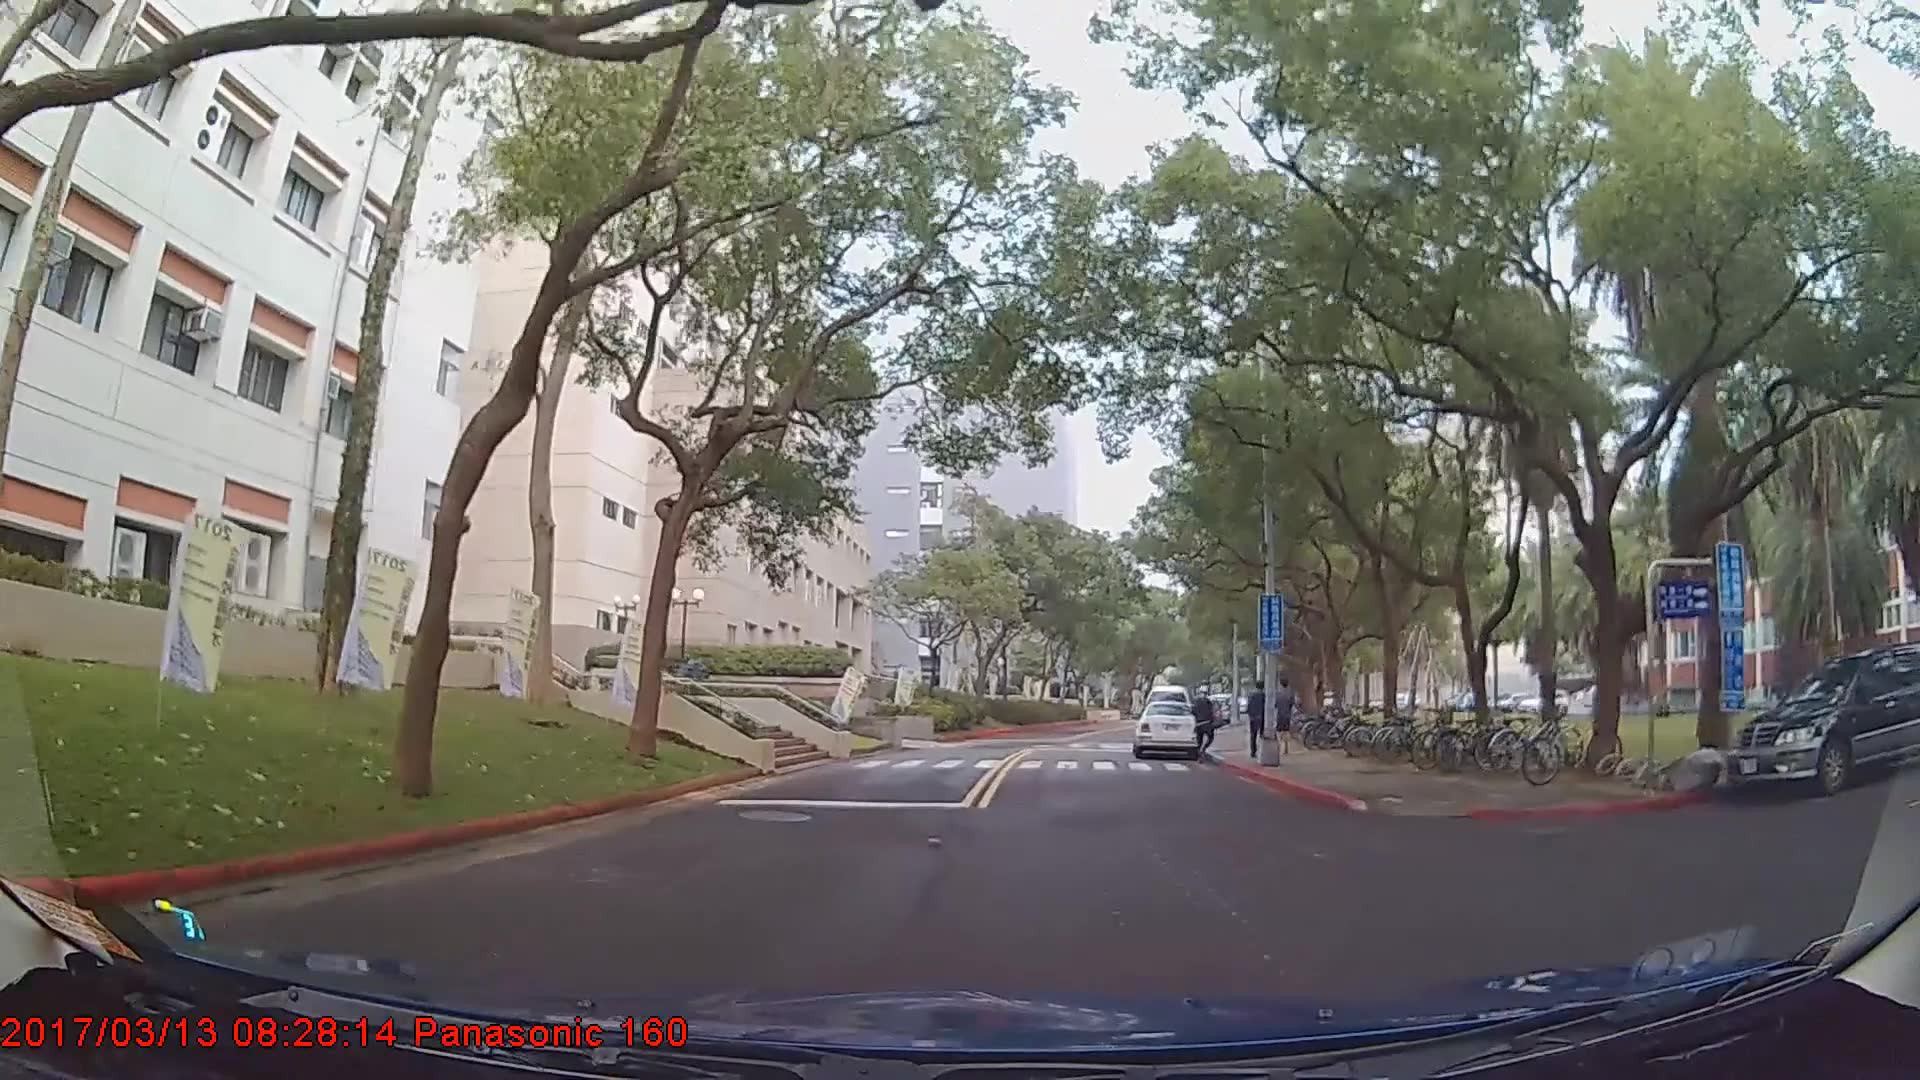pedestrian: (1245, 684, 1272, 757), (1190, 685, 1215, 760)
vehicle: (1728, 643, 1920, 796), (1131, 699, 1203, 761)
